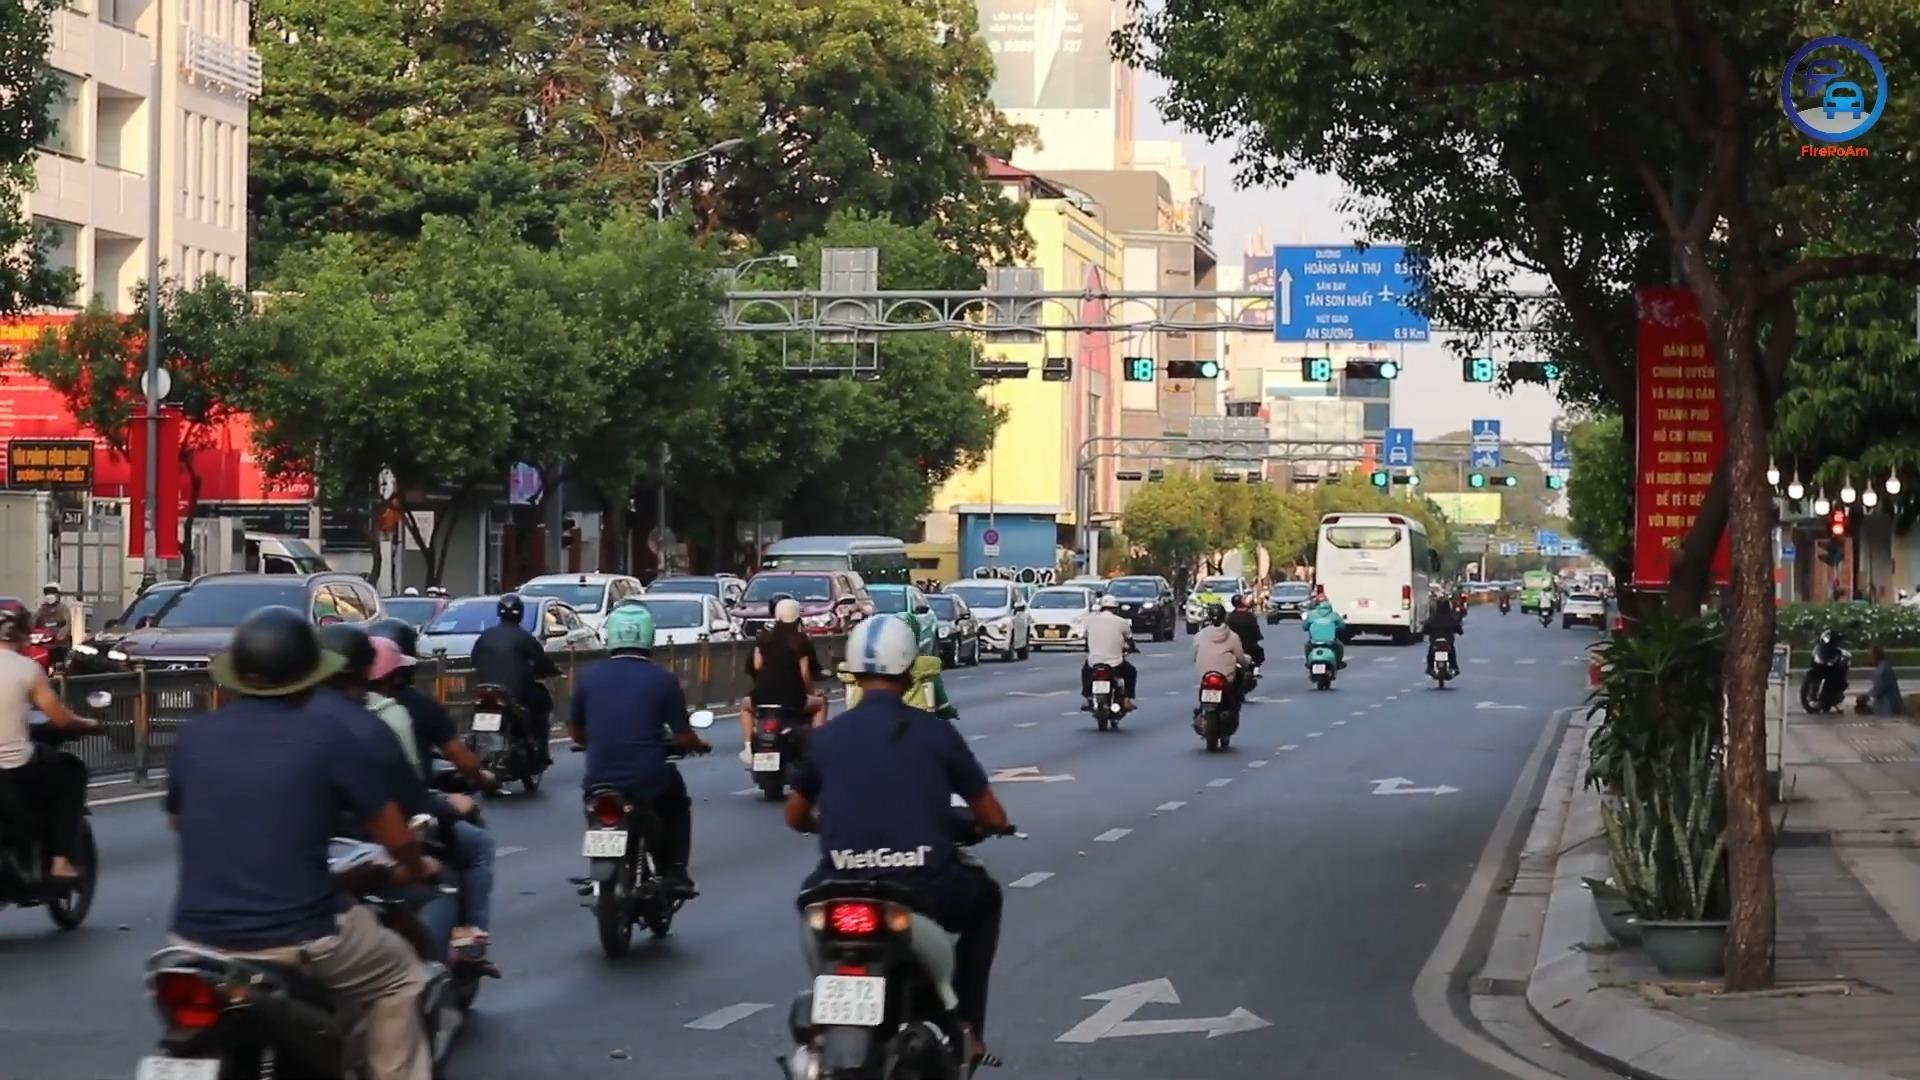bien_so: (808, 975, 888, 1026), (581, 829, 629, 858), (470, 712, 503, 733), (752, 752, 781, 772), (1201, 688, 1223, 704), (1091, 680, 1112, 695), (1043, 628, 1061, 640), (1311, 663, 1327, 675), (1433, 650, 1449, 662)
